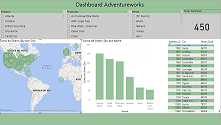

Layout of this report page (visuals, bound fields, positions):
{"tool":"powerbi","page":{"name":"Página 1","canvas":[1280,720],"ordinal":0},"visuals":[{"type":"map","fields":{"Category":["Address.City"],"Size":["Sum(SalesOrderDetail.Order_Qty)"]},"box":[0,225.7,480,427.1],"z":0},{"type":"clusteredColumnChart","fields":{"Category":["ProductCategory.Name"],"Y":["Sum(SalesOrderDetail.Order_Qty)"]},"box":[480,225.7,442.9,427.1],"z":1000},{"type":"card","fields":{"Values":["CountNonNull(Customer.Customer_ID)"]},"box":[1097.1,225.7,182.9,150],"z":2000},{"type":"slicer","fields":{"Values":["Product.Name"]},"box":[380,55.7,374.3,170],"z":3000},{"type":"card","title":"Total Address","fields":{"Values":["CountNonNull(Address.Address_ID)"]},"box":[1060,55.7,220,170],"z":4000},{"type":"tableEx","fields":{"Values":["Address.Address_ID","Address.City","Address.Postal_Code"]},"box":[968.6,225.7,311.4,427.1],"z":5000},{"type":"shape","box":[0,0,1280,55.7],"z":6000},{"type":"shape","box":[0,652.9,1280,67.1],"z":7000},{"type":"slicer","fields":{"Values":["Address.State_Province"]},"box":[0,55.7,380,170],"z":8000},{"type":"slicer","fields":{"Values":["SalesOrderHeader.Due_Date.Variación.Jerarquía de fechas.Mes"]},"box":[754.3,55.7,305.7,170],"z":9000}]}

Visuals, with their boxes in screenshot pixels (x1, y1, x2, y2), scaled from the page's 1280x720 canvas onto the 221x125 screenshot:
map - Address.City x Sum(SalesOrderDetail.Order_Qty): left=0, top=39, right=83, bottom=113
clusteredColumnChart - ProductCategory.Name x Sum(SalesOrderDetail.Order_Qty): left=83, top=39, right=159, bottom=113
card - CountNonNull(Customer.Customer_ID): left=189, top=39, right=220, bottom=65
slicer - Product.Name: left=66, top=10, right=130, bottom=39
"Total Address" card: left=183, top=10, right=220, bottom=39
tableEx - Address.Address_ID x Address.City: left=167, top=39, right=220, bottom=113
shape: left=0, top=0, right=220, bottom=10
shape: left=0, top=113, right=220, bottom=124
slicer - Address.State_Province: left=0, top=10, right=66, bottom=39
slicer - SalesOrderHeader.Due_Date.Variación.Jerarquía de fechas.Mes: left=130, top=10, right=183, bottom=39
